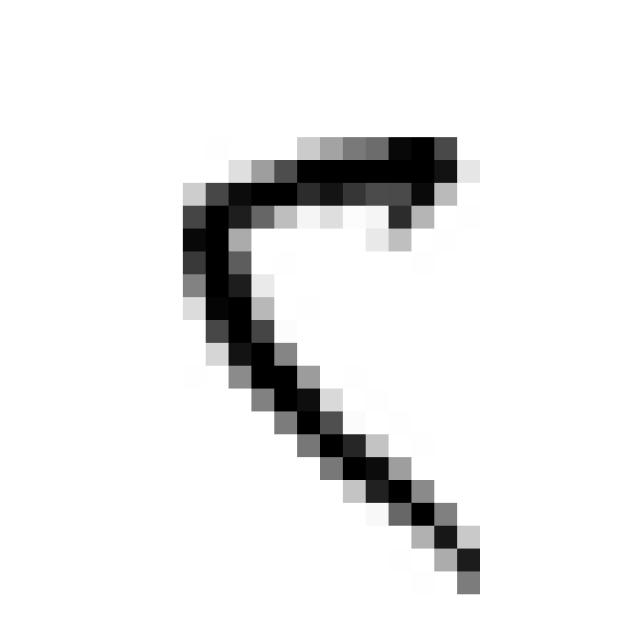2 -two-: (162, 114, 501, 612)
